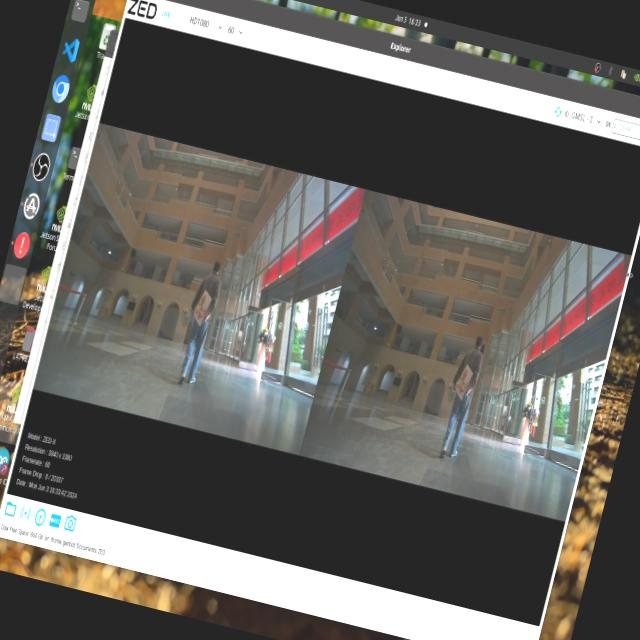red: (452, 361, 474, 399), (192, 294, 210, 325)
